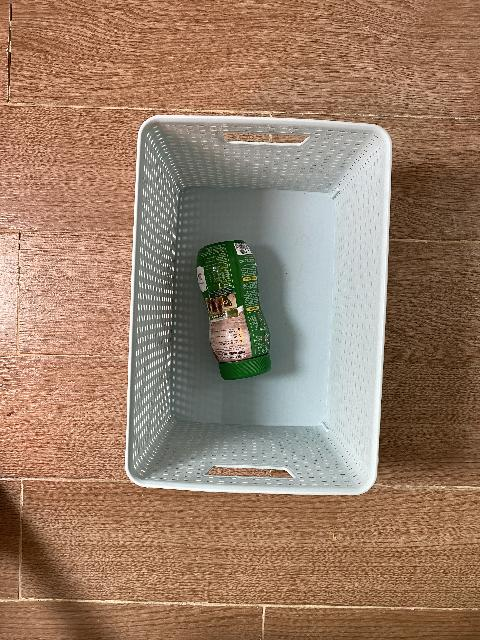cart: (124, 114, 393, 496)
milo: (196, 240, 272, 381)
